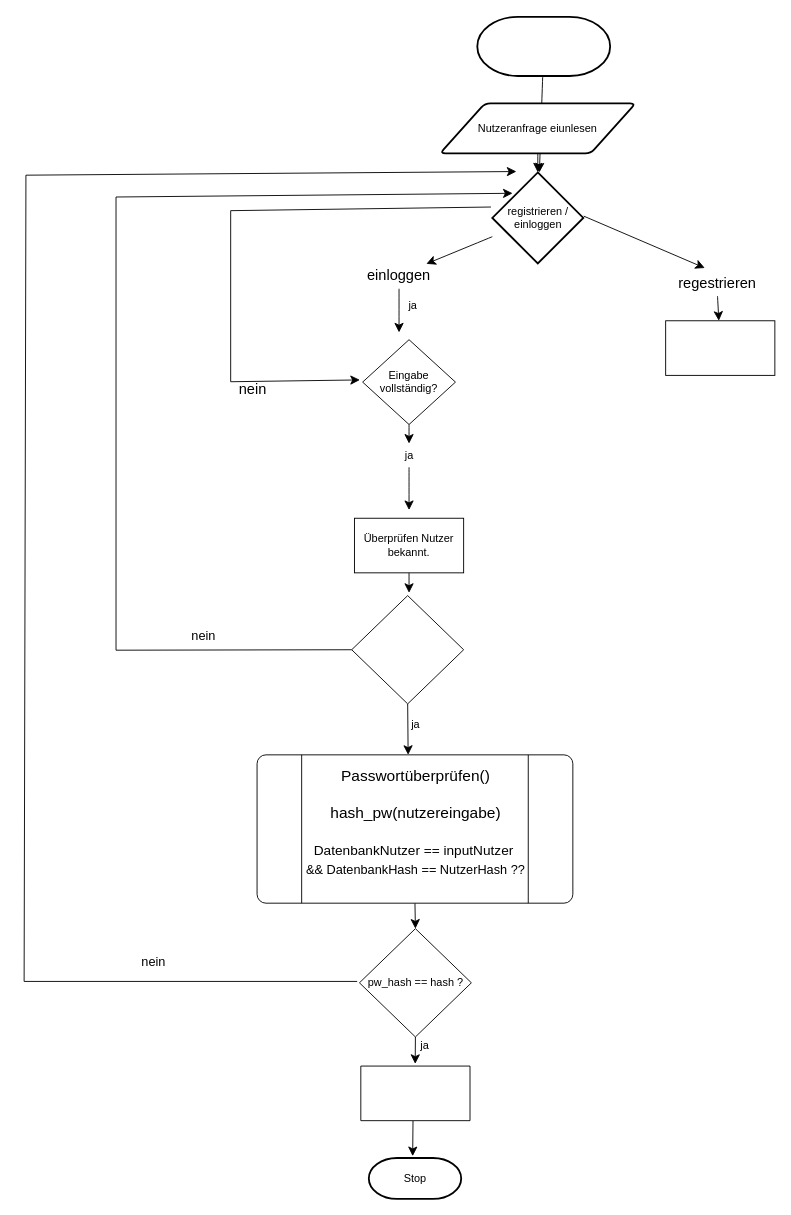
Image size: 791x1215. Some labels were removed from this diagram. The shapes that lost their labels are listed below. From the top down, each one's centre as x and y in pixels, then its label:
(543,45): Start
(720,347): Formular anzeigen
(407,649): ist vorhanden ?
(415,1093): anzeigen Logginbereich
